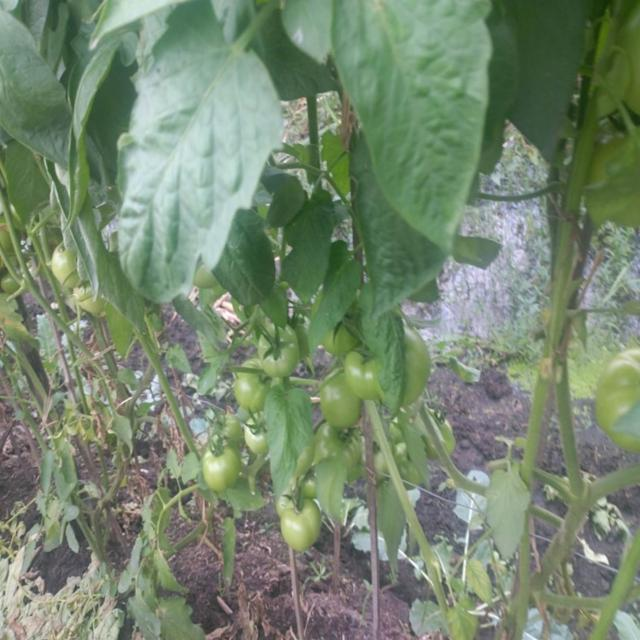tomato: (404, 330, 436, 412), (600, 348, 640, 408), (321, 377, 366, 428), (260, 330, 301, 382), (281, 502, 321, 547), (312, 430, 364, 464), (347, 351, 380, 404), (204, 443, 239, 490), (233, 361, 262, 417), (243, 417, 271, 457), (50, 248, 80, 282), (432, 405, 457, 441), (77, 287, 108, 315), (193, 270, 220, 291), (300, 467, 318, 494)
